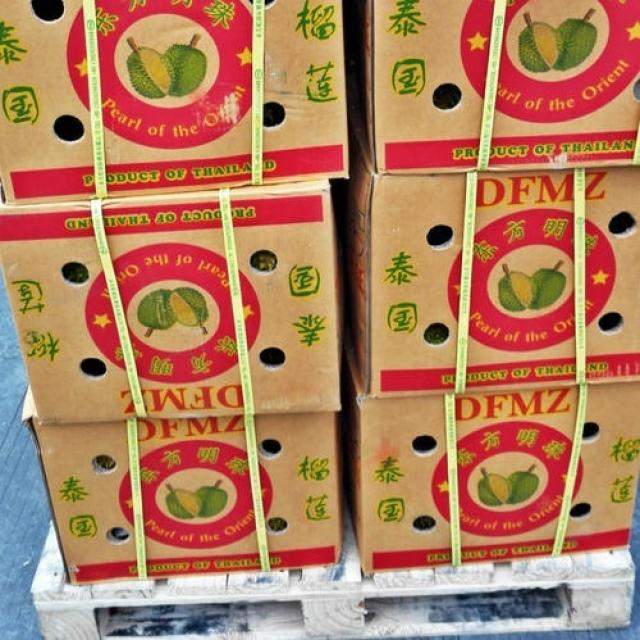box: (0, 178, 339, 423), (351, 153, 636, 398), (3, 3, 346, 199), (347, 353, 637, 576), (23, 387, 343, 582), (367, 3, 637, 173)
